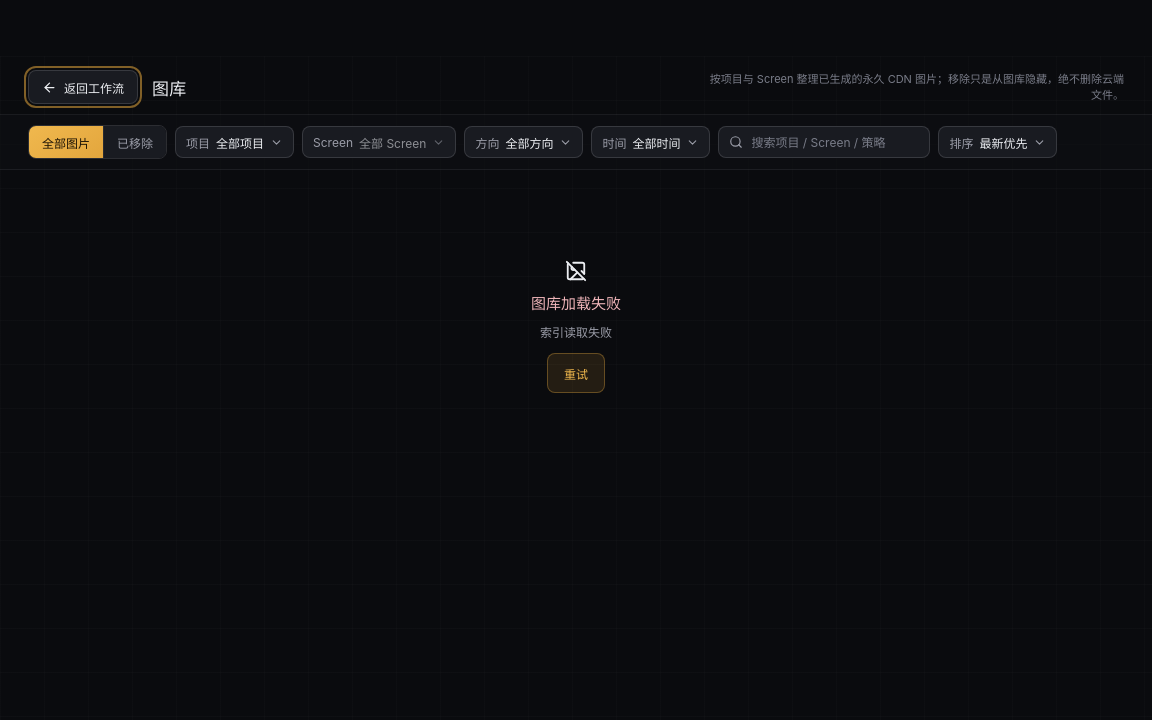
Scenario: GalleryWorkspace 状态 › 加载失败显示错误态并可重试
Check: the text "图库加载失败" is shown, box [531, 292, 621, 313]
Click the button "重试".
click(576, 373)  # box [547, 353, 605, 393]
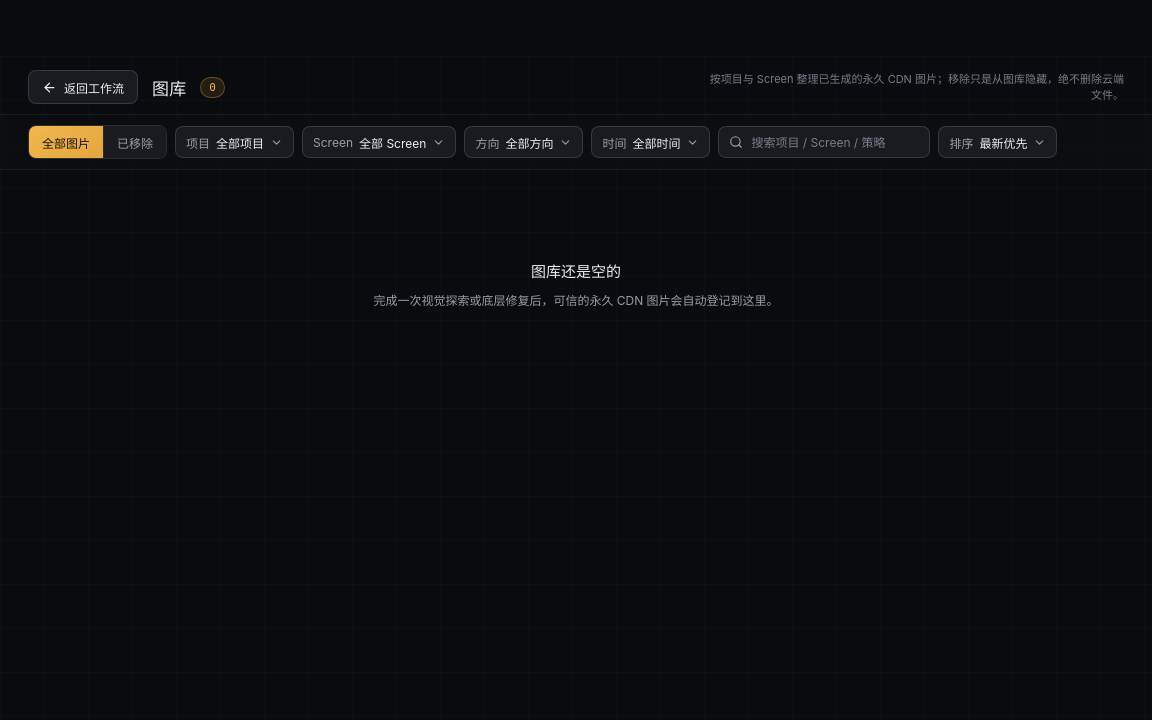
Check: the text "图库还是空的" is shown, box [531, 260, 621, 281]
